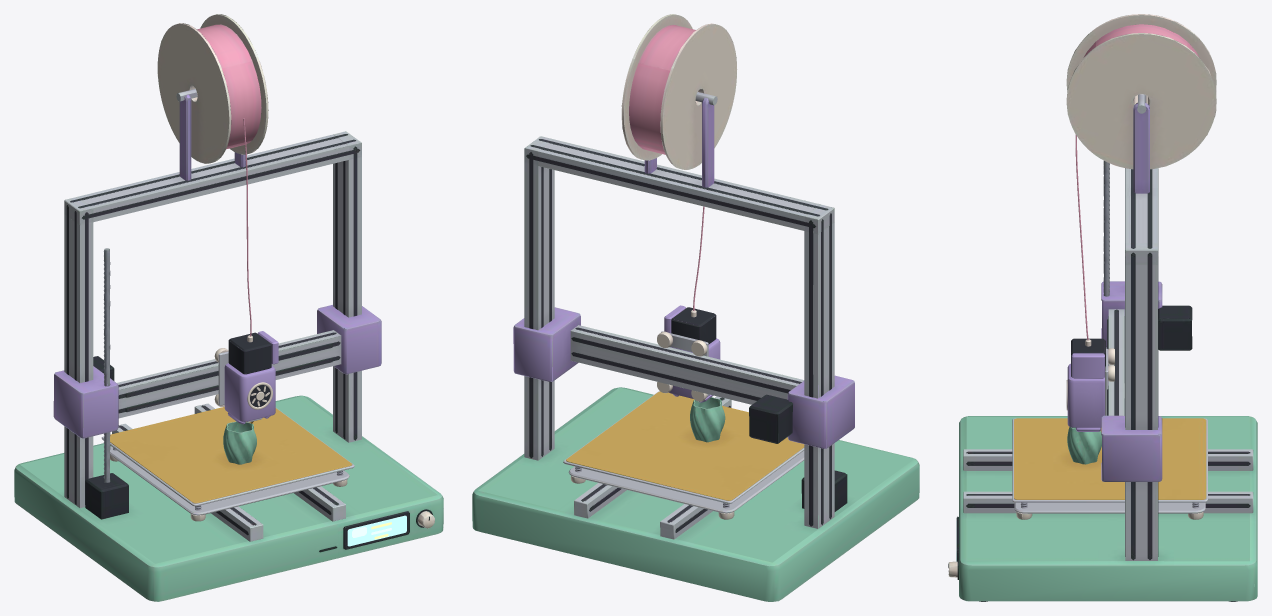
The model's file is 3d-printer.glb.
The picture shows the model from 3 angles, left to right: view 1: azimuth 30°, elevation 25°; view 2: azimuth 150°, elevation 25°; view 3: azimuth 270°, elevation 25°; orthographic projection. The views are drawn at different scales.
Visible parts, largest first — view 1: 3d-printer_body, 3d-printer_bed, 3d-printer_head, 3d-printer_screen_rgb; view 2: 3d-printer_body, 3d-printer_bed, 3d-printer_head; view 3: 3d-printer_body, 3d-printer_bed, 3d-printer_head.
Boxes of the visible parts, <box> form: 3d-printer_body: <box>14,14,443,601</box>; 3d-printer_bed: <box>101,407,354,521</box>; 3d-printer_head: <box>214,118,278,424</box>; 3d-printer_screen_rgb: <box>347,515,406,546</box>; 3d-printer_body: <box>472,14,919,601</box>; 3d-printer_bed: <box>563,391,804,519</box>; 3d-printer_head: <box>657,206,720,402</box>; 3d-printer_body: <box>948,14,1257,601</box>; 3d-printer_bed: <box>1012,418,1207,519</box>; 3d-printer_head: <box>1066,134,1114,431</box>.
Bounding box in the file's own units: 0.4373 × 0.674 × 0.3719.
Materials: 6 (3 with a texture image).
